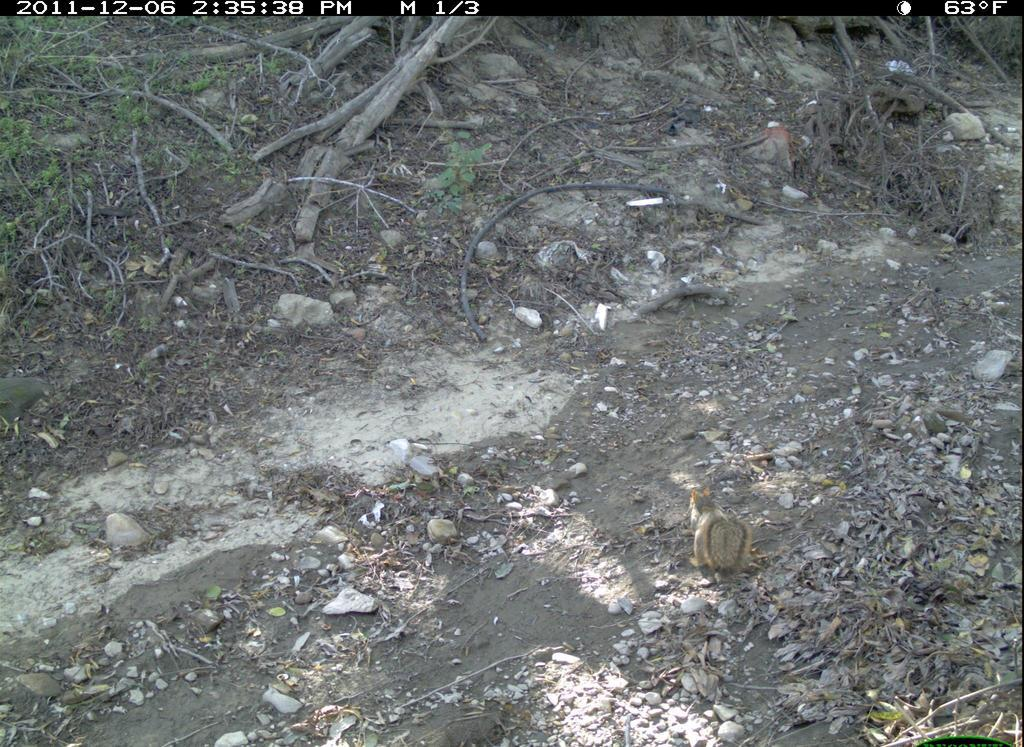squirrel: (678, 479, 762, 594)
